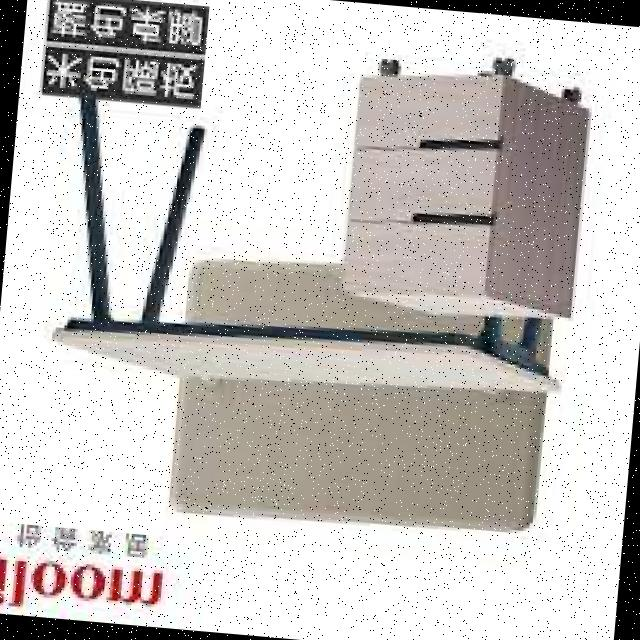Table: (39, 205, 586, 440)
